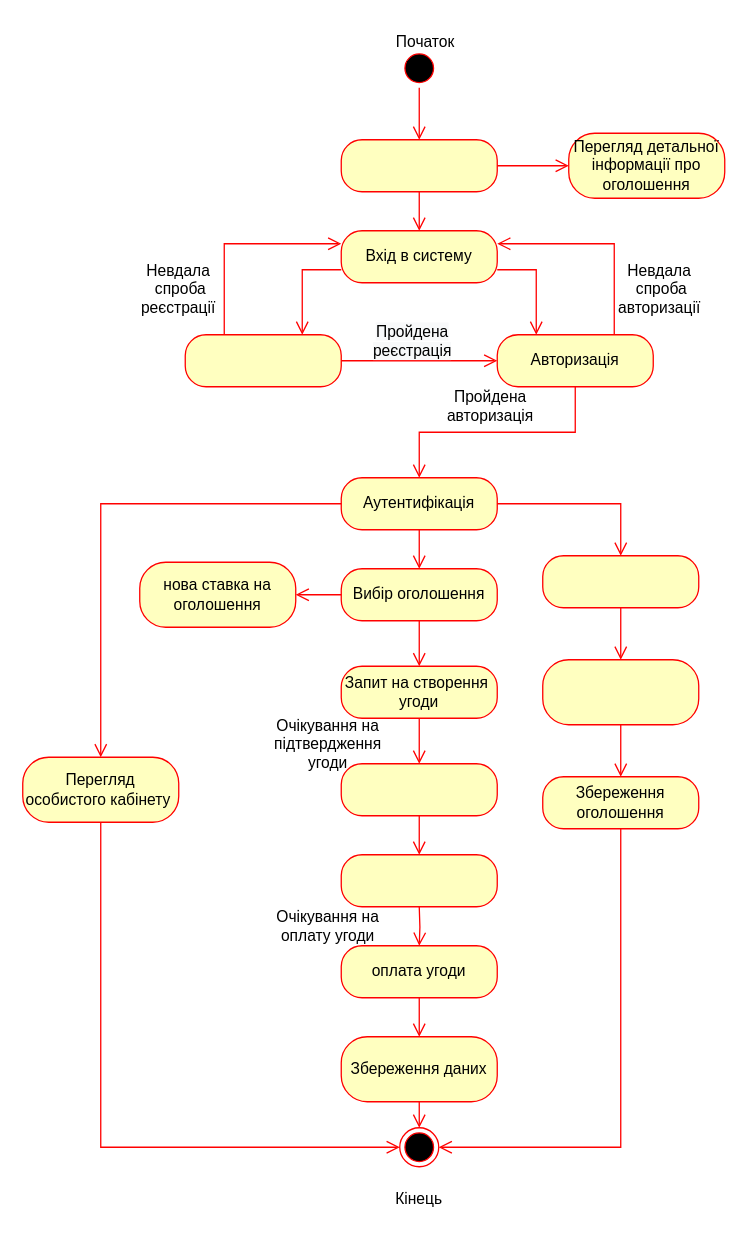
This 748x1240 diagram has some shape labels left out. Each missing label, with the centre of its shape:
Внесення данних оголошення: point (620, 691)
Перегляд списку оголошень: point (418, 165)
Підтвердження угоди: point (418, 880)
Реєстрація: point (262, 360)
Складання угоди: point (418, 789)
Створення оголошення: point (620, 581)
